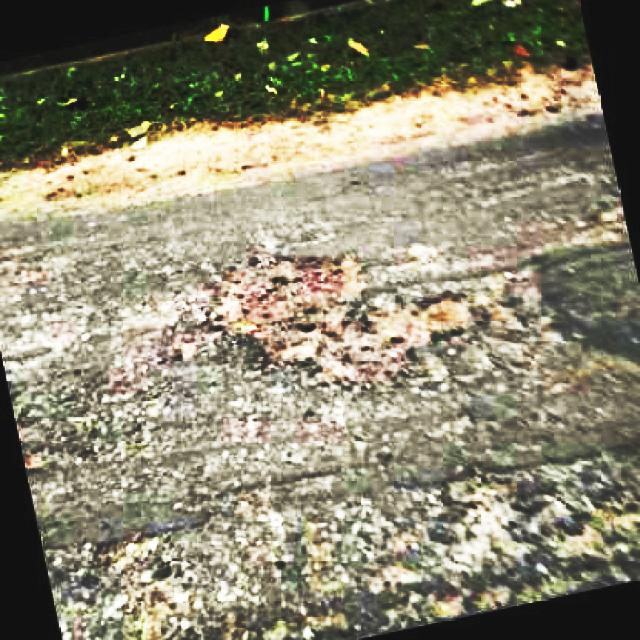pothole: (214, 243, 371, 372)
